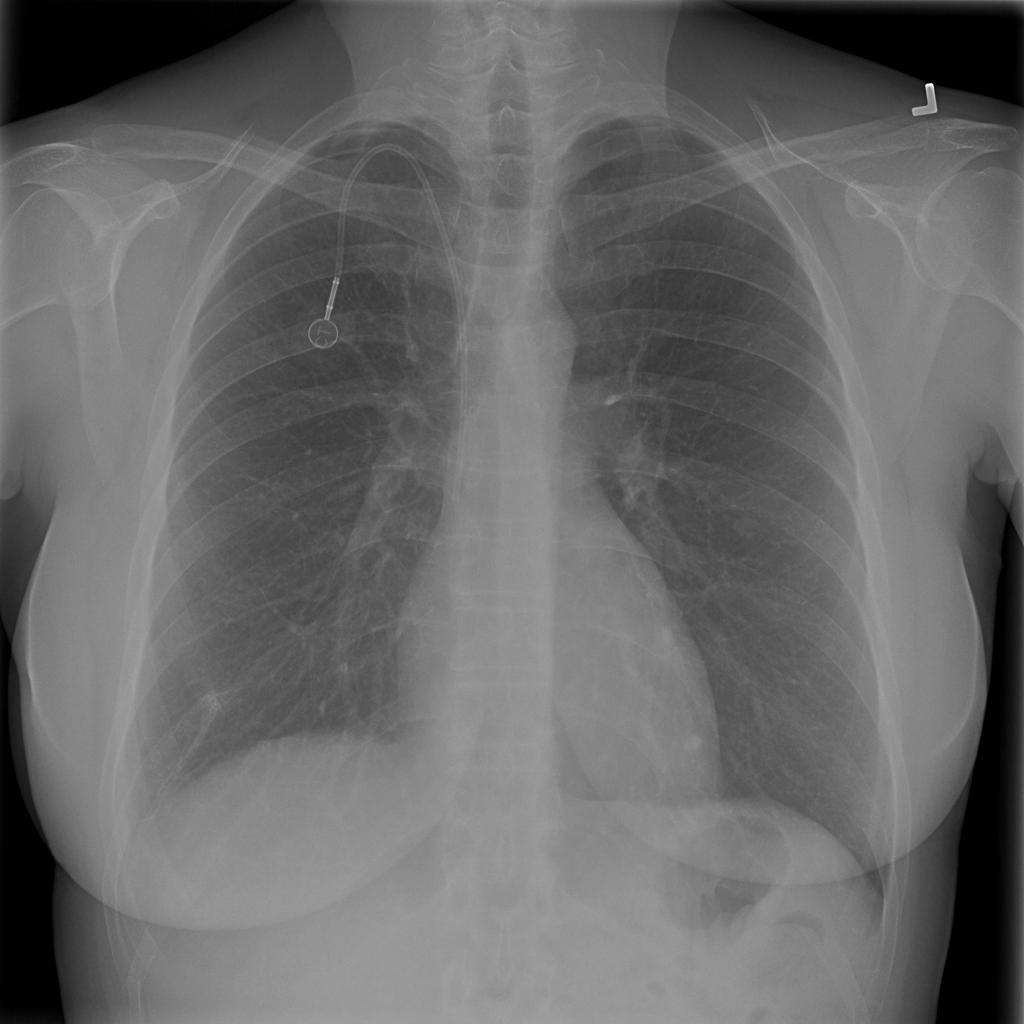nodule: (721, 505, 777, 552), (671, 718, 717, 770)
